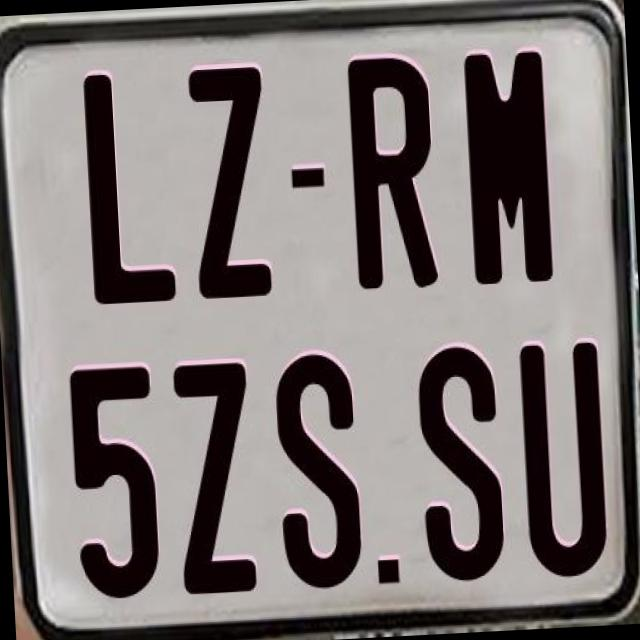5: (66, 366, 162, 606)
L: (80, 71, 178, 306)
M: (464, 51, 556, 294)
R: (347, 56, 438, 292)
S: (270, 347, 366, 596), (413, 340, 506, 585)
U: (519, 341, 612, 586)
Z: (173, 360, 265, 601), (184, 62, 272, 296)
